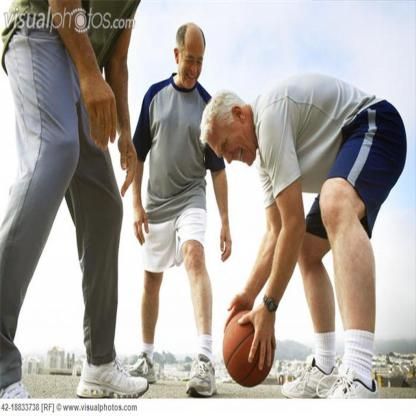face: (209, 114, 257, 166), (179, 35, 204, 91)
